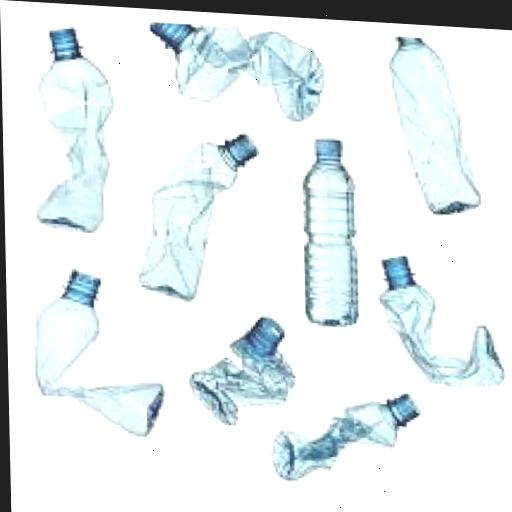ba: (15, 262, 176, 467), (356, 23, 506, 227), (6, 11, 131, 250), (117, 122, 265, 311), (136, 9, 331, 130), (367, 247, 512, 402), (270, 374, 427, 493), (287, 133, 371, 342), (177, 308, 304, 435)
